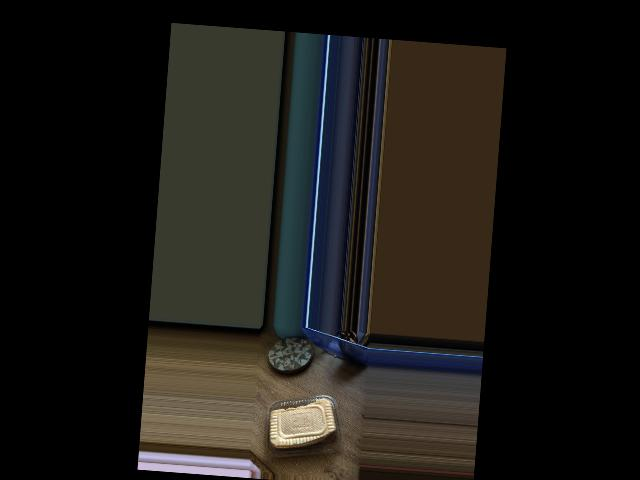cheese: (252, 385, 337, 478)
